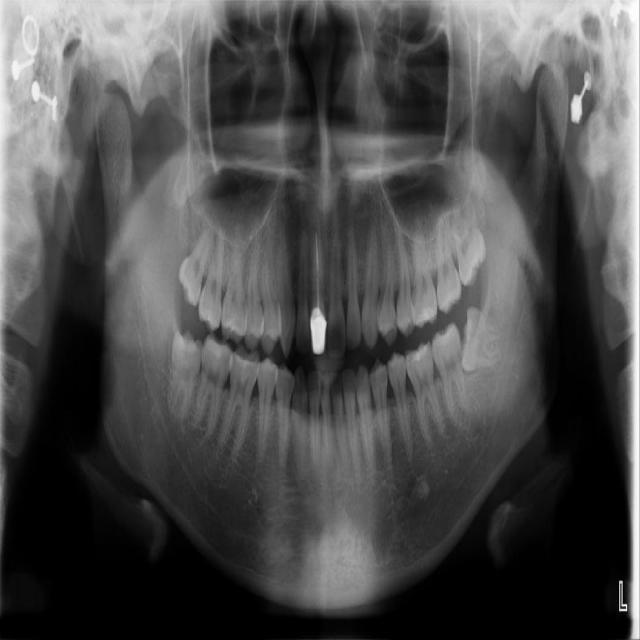3M ESPE Implant: (170, 220, 219, 307)
52: (190, 330, 244, 384), (403, 340, 436, 386), (309, 302, 328, 360)
73: (311, 227, 328, 315), (618, 620, 626, 634)
BioHorizons Implant: (432, 203, 463, 314)
BioLife Implant: (445, 189, 493, 289)
Biomet 3i Implant: (459, 307, 503, 372)
Blue Sky Bio Implant: (428, 320, 473, 430)
Caries: (196, 220, 227, 334)
Implant: (181, 330, 239, 435)
Keystone Dental Implant: (165, 328, 205, 426)
